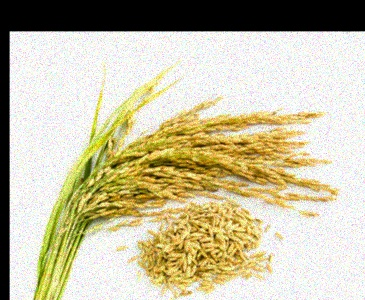rice: (66, 94, 331, 235)
